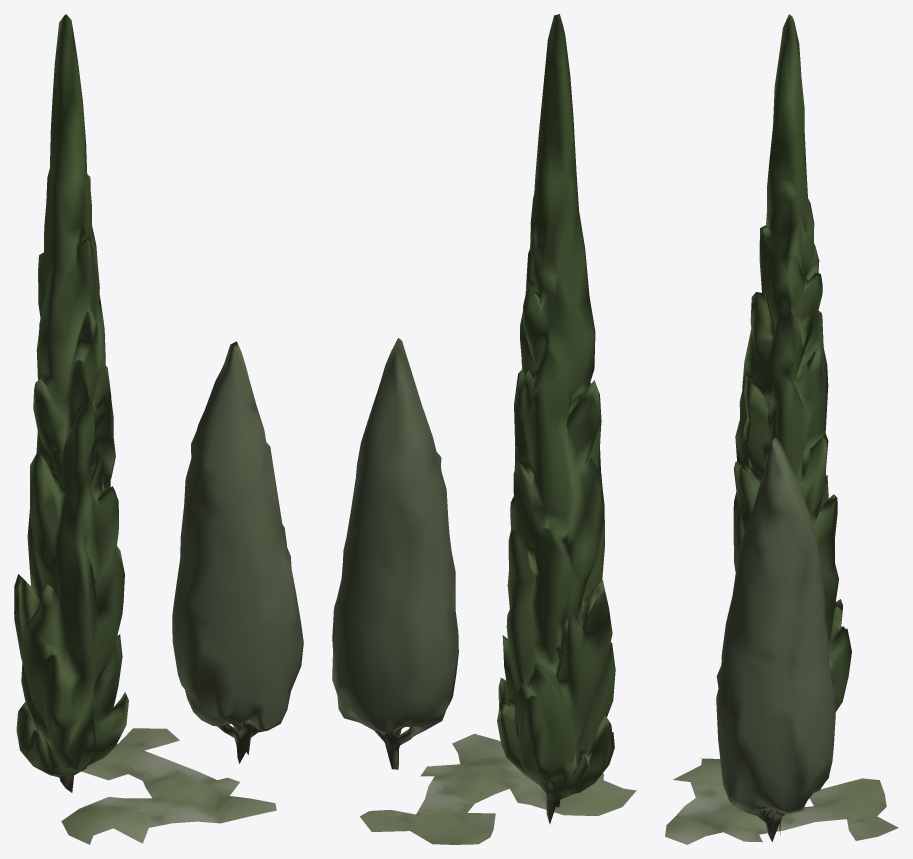
Rendered from cypress.glb.
The picture shows the model from 3 angles, left to right: view 1: azimuth 30°, elevation 25°; view 2: azimuth 150°, elevation 25°; view 3: azimuth 270°, elevation 25°; orthographic projection. The views are drawn at different scales.
Visible parts, largest first — view 1: Prop; view 2: Prop; view 3: Prop.
Boxes of the visible parts, <box> form: Prop: <box>14,14,303,844</box>; Prop: <box>332,14,636,844</box>; Prop: <box>665,14,898,844</box>.
Bounding box in the file's own units: 4.26 × 12 × 3.35.
1 material, 1 textured.
